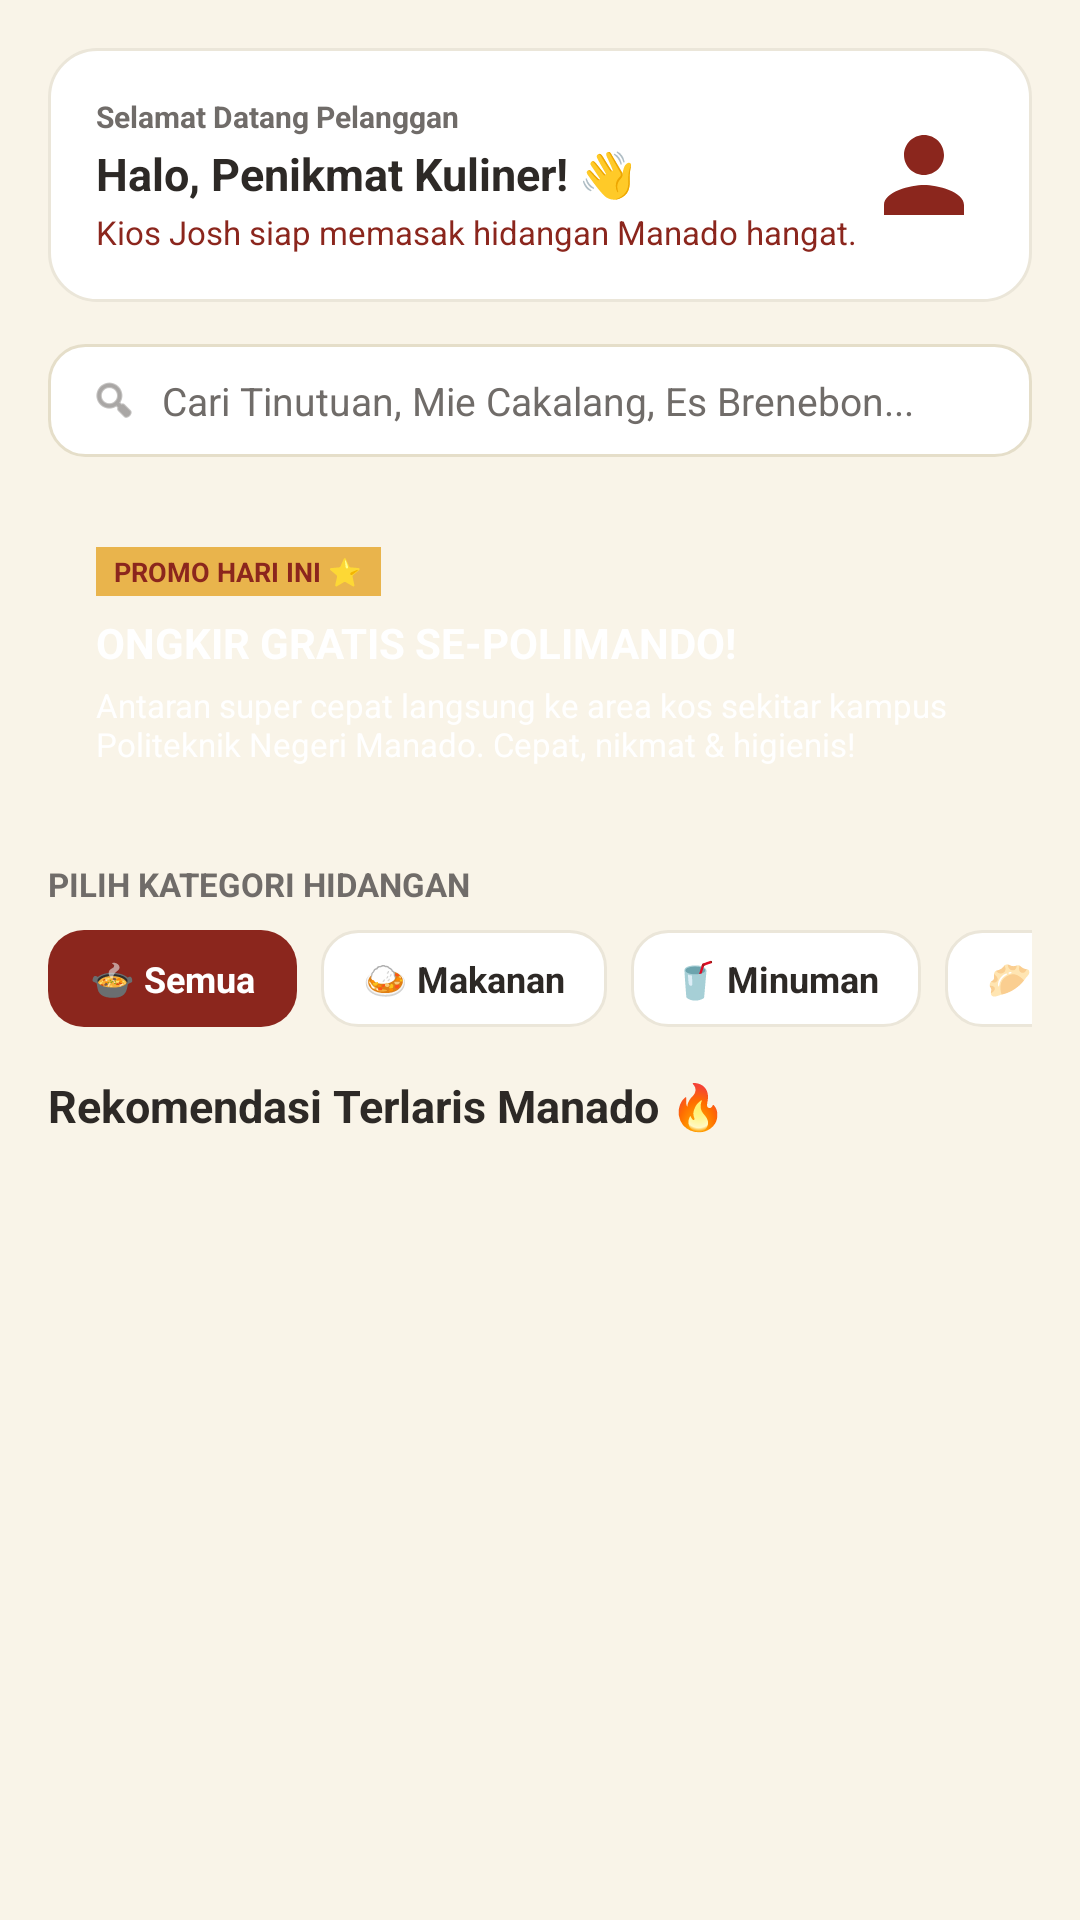

Icons on this 1080px x 1920px Android screen, each with its box as (x1, y1, x2, y2):
account: (884, 135, 964, 215)
search: (96, 382, 132, 418)
